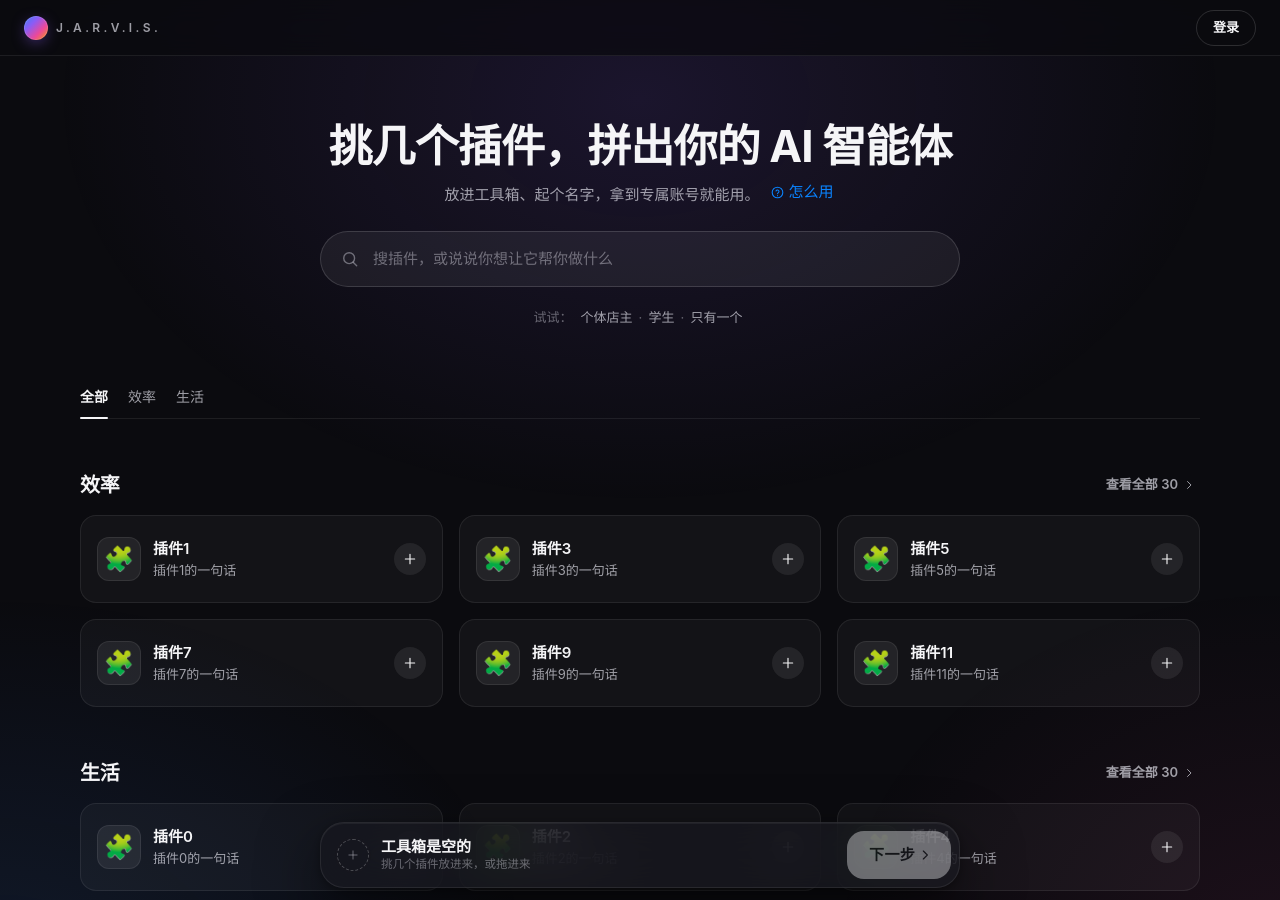
it: 市场首页：顶栏、搜索与筛选 › 大目录：总览每个分类先露几张，「全部 N 个」切到该分类看全
What coordinates should you click on to do the following:
click the button with aria-label "查看效率的全部 30 个插件"
I would click on:
 (1149, 484)
Its box is [1098,466,1200,502].
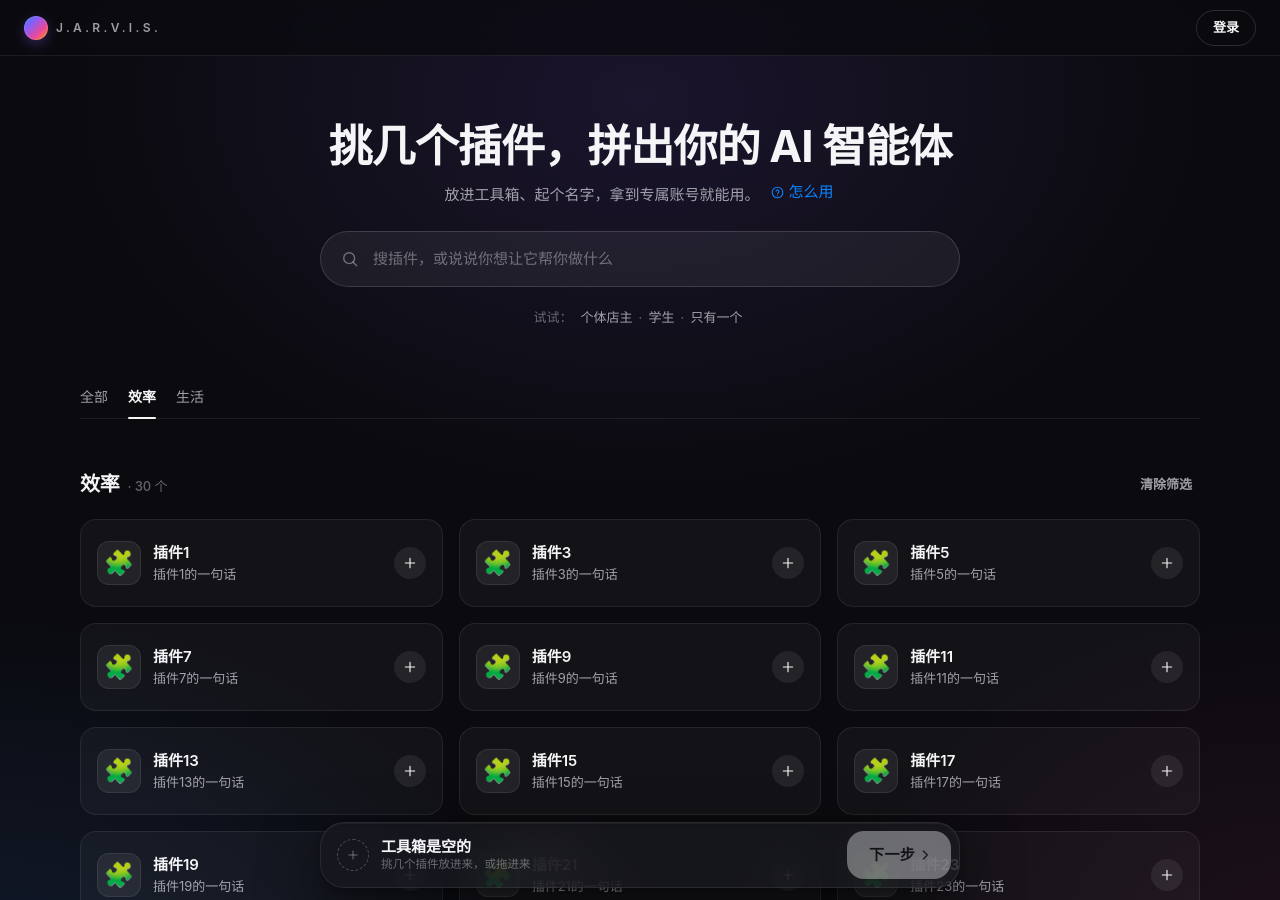
Now the heading "效率 · 30 个" is shown, box [80,470,167,500]
